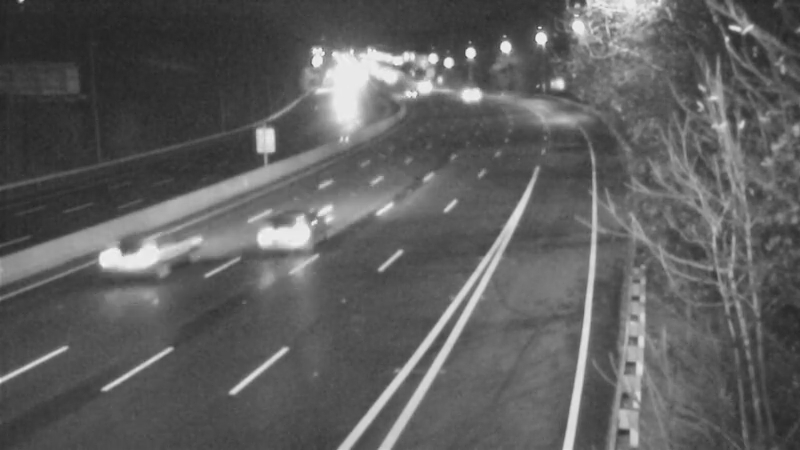vehicle: (250, 180, 330, 260), (101, 213, 181, 293), (383, 67, 433, 117), (439, 72, 489, 122)
